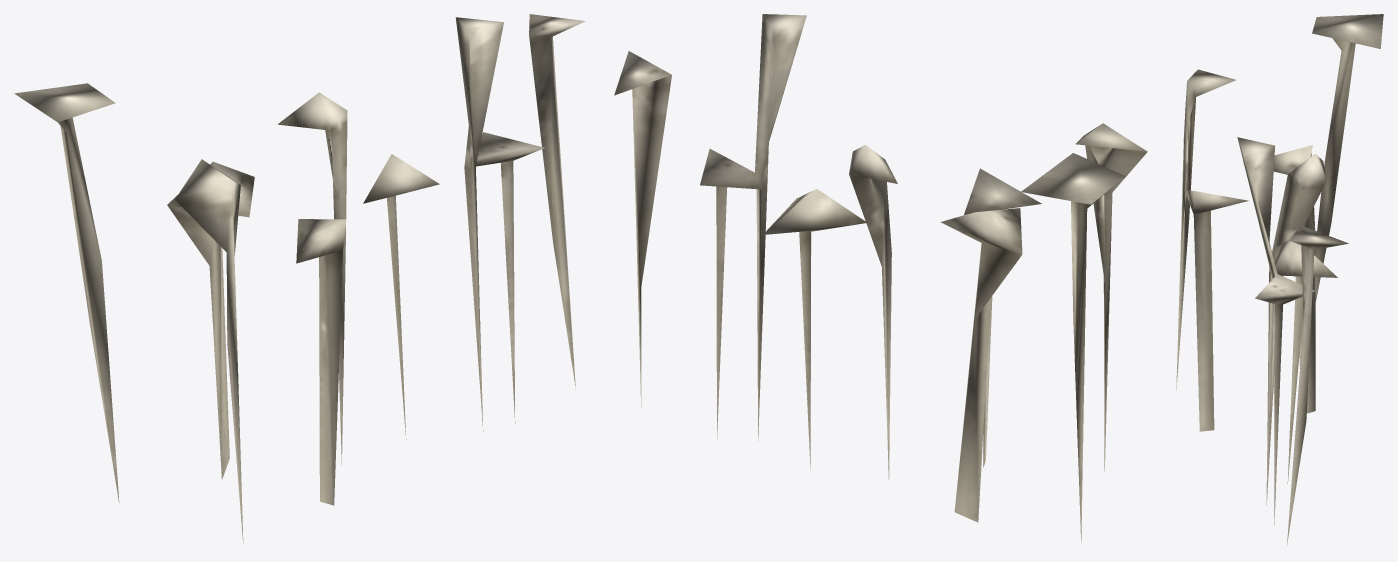
The model's file is mushgrass_b_far.glb.
3 views of the same model, side by side, from view 1: azimuth 30°, elevation 25°; view 2: azimuth 150°, elevation 25°; view 3: azimuth 270°, elevation 25° (orthographic). The views are drawn at different scales.
Parts seen in each view (by area): view 1: mushgrass; view 2: mushgrass; view 3: mushgrass.
Boxes of the visible parts, box(x1,y1,x2,y2) form: mushgrass: box(14, 14, 585, 543); mushgrass: box(614, 14, 1147, 542); mushgrass: box(1176, 14, 1383, 544).
Size of the model in its own units: 0.1496 by 0.1187 by 0.0609.
1 material, 1 textured.
